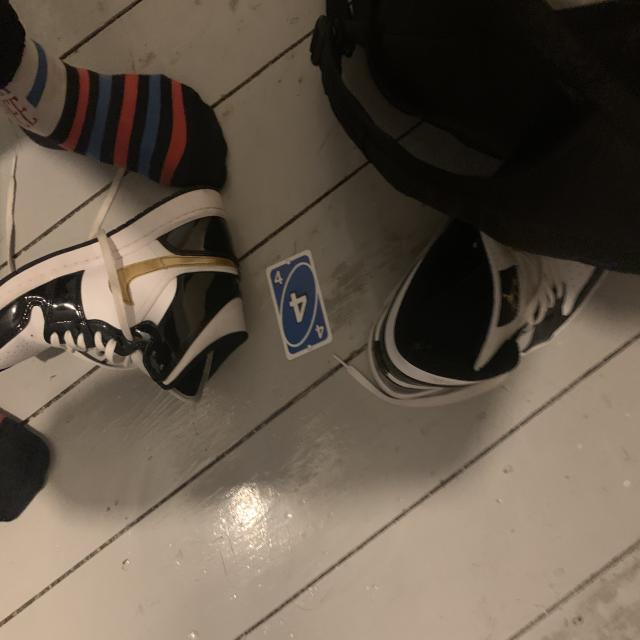lblue-4: (271, 268, 285, 290)
